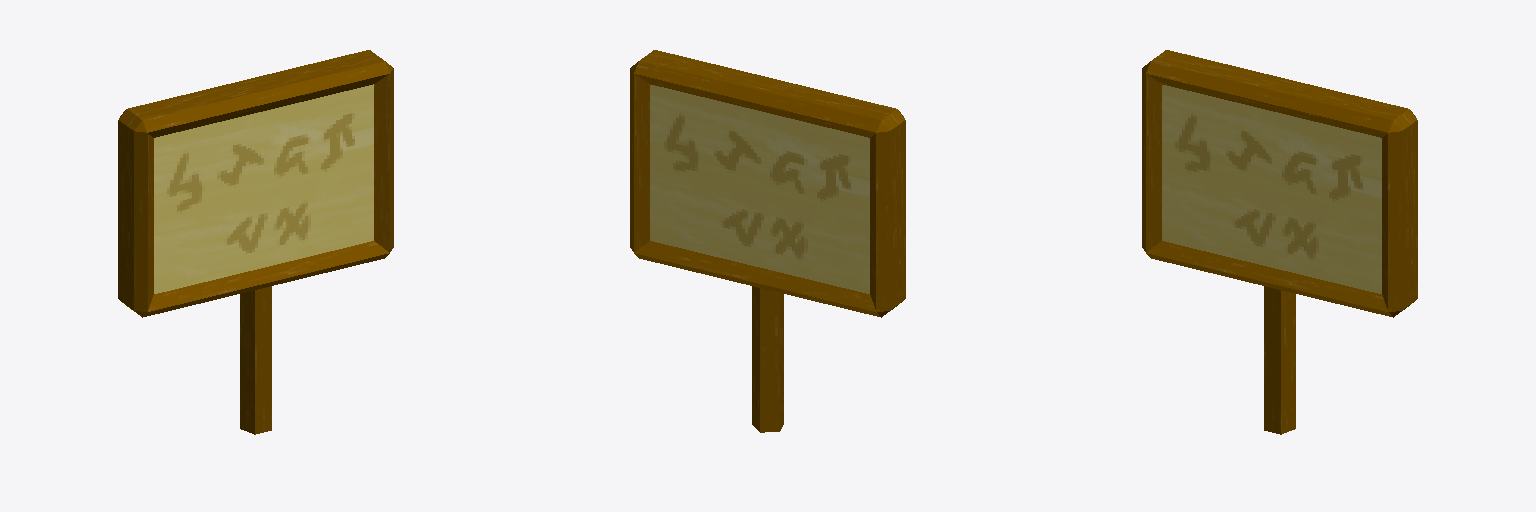
The picture shows the model from 3 angles: view 1: azimuth 30°, elevation 25°; view 2: azimuth 150°, elevation 25°; view 3: azimuth 330°, elevation 25°; orthographic projection.
Visible parts, largest first — view 1: Cartel; view 2: Cartel; view 3: Cartel.
Part boxes in pixels (x1,y1,x2,y2): Cartel: (118, 50, 393, 434); Cartel: (630, 50, 905, 432); Cartel: (1142, 50, 1417, 434).
Size of the model in its own units: 4.57 by 5.76 by 0.7793.
Materials: 1 (1 with a texture image).